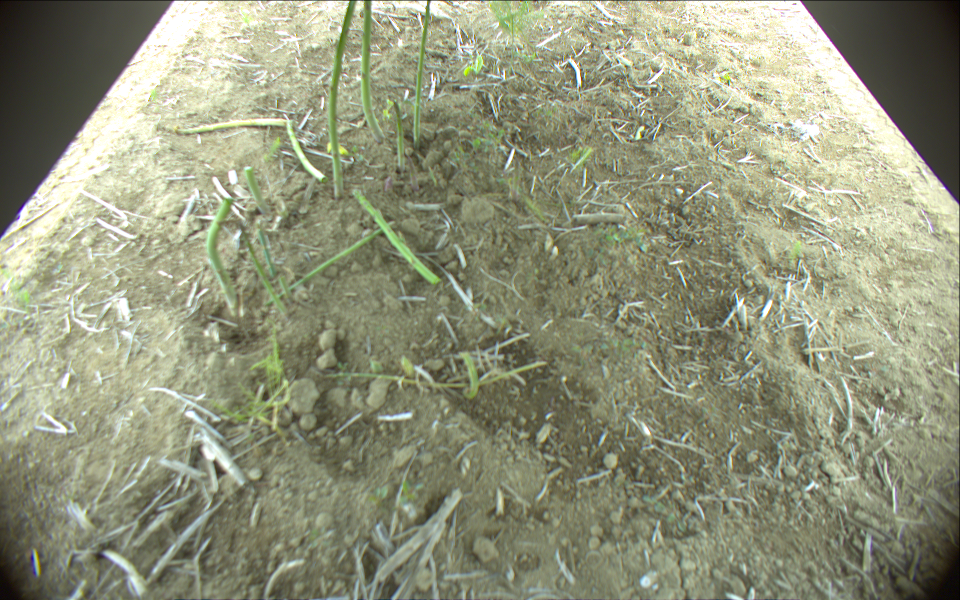aspa: (264, 221, 397, 313), (354, 187, 441, 284), (328, 1, 359, 198), (322, 362, 546, 389), (206, 197, 239, 314), (239, 224, 282, 309), (360, 1, 384, 143), (155, 113, 287, 134), (285, 118, 328, 182), (413, 1, 431, 146), (244, 166, 270, 217), (391, 100, 405, 174), (462, 355, 479, 410), (262, 230, 276, 282), (279, 277, 291, 300)
